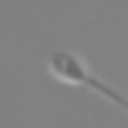normal: (86, 78, 127, 107)
